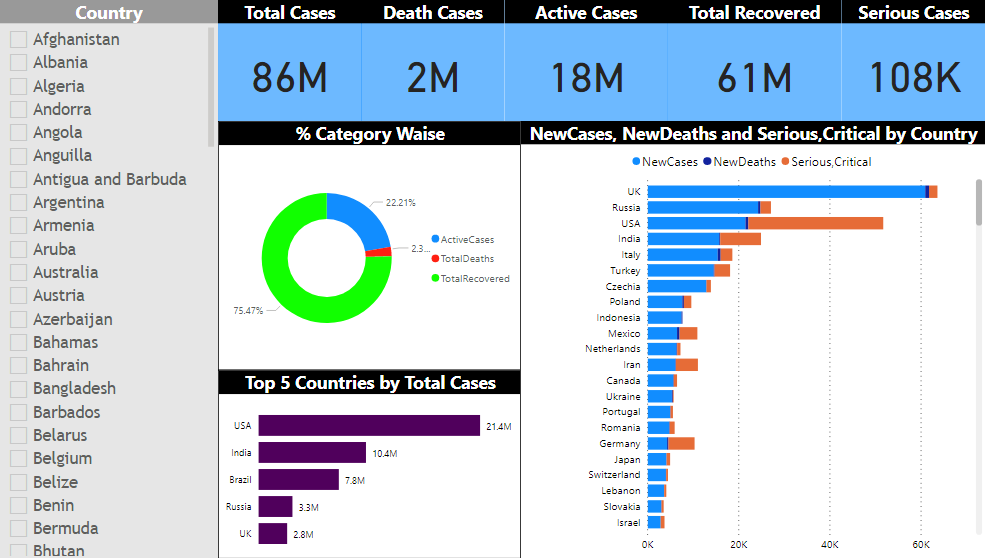

Layout of this report page (visuals, bound fields, positions):
{"tool":"powerbi","page":{"name":"Page 1","canvas":[1280,720],"ordinal":0},"visuals":[{"type":"slicer","title":"Country","fields":{"Values":["Table 1.Country,Other"]},"box":[10.1,0,280.5,720.6],"z":0},{"type":"card","title":"Total Cases","fields":{"Values":["Sum(Table 1.TotalCases)"]},"box":[290.6,0,184.8,156.2],"z":1000},{"type":"card","title":"Active Cases","fields":{"Values":["Sum(Table 1.ActiveCases)"]},"box":[661,0,208.6,156.4],"z":2000},{"type":"card","title":"Death Cases","fields":{"Values":["Sum(Table 1.TotalDeaths)"]},"box":[475.4,0,184.8,156.2],"z":3000},{"type":"card","title":"Total Recovered","fields":{"Values":["Sum(Table 1.TotalRecovered)"]},"box":[869.6,0,225.4,156.4],"z":4000},{"type":"card","title":"Serious Cases","fields":{"Values":["Sum(Table 1.Serious,Critical)"]},"box":[1095.2,0,184.8,156.2],"z":5000},{"type":"donutChart","title":"% Category Wise","fields":{"Y":["Sum(Table 1.ActiveCases)","Sum(Table 1.TotalDeaths)","Sum(Table 1.TotalRecovered)"]},"box":[290.6,156.2,389.7,320.8],"z":6000},{"type":"barChart","title":"Top 5 Countries by Total Cases","fields":{"Category":["Table 1.Country,Other"],"Y":["Sum(Table 1.TotalCases)"]},"box":[291,477,390,243],"z":7000},{"type":"barChart","title":"NewCases, NewDeaths and Serious,Critical by Country","fields":{"Category":["Table 1.Country,Other"],"Y":["Sum(Table 1.NewCases)","Sum(Table 1.NewDeaths)","Sum(Table 1.Serious,Critical)"]},"box":[681.2,156.4,598.8,563.5],"z":8000}]}

Visuals, with their boxes in screenshot pixels (x1, y1, x2, y2), scaled from the page's 1280x720 canvas onto the 985x558 screenshot:
"Country" slicer: [left=8, top=0, right=224, bottom=557]
"Total Cases" card: [left=224, top=0, right=366, bottom=121]
"Active Cases" card: [left=509, top=0, right=669, bottom=121]
"Death Cases" card: [left=366, top=0, right=508, bottom=121]
"Total Recovered" card: [left=669, top=0, right=843, bottom=121]
"Serious Cases" card: [left=843, top=0, right=984, bottom=121]
"% Category Wise" donutChart: [left=224, top=121, right=524, bottom=370]
"Top 5 Countries by Total Cases" barChart: [left=224, top=370, right=524, bottom=557]
"NewCases, NewDeaths and Serious,Critical by Country" barChart: [left=524, top=121, right=984, bottom=557]
